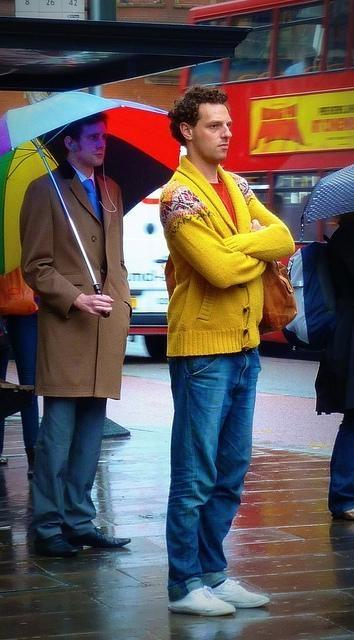bus: (182, 0, 352, 347)
truck: (120, 180, 174, 360)
